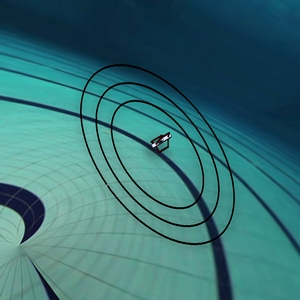circle: (70, 55, 257, 257)
submarine: (141, 126, 178, 162)
